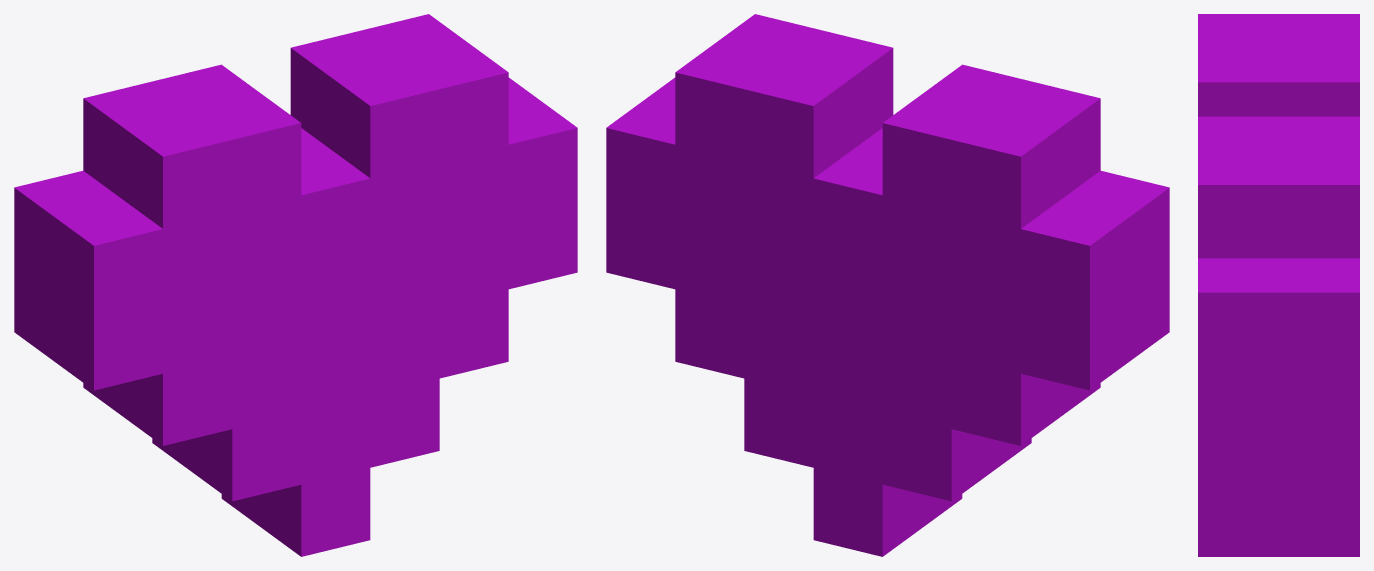
Rendered from Heart.vox-3.obj.
The picture shows the model from 3 angles, left to right: view 1: azimuth 30°, elevation 25°; view 2: azimuth 150°, elevation 25°; view 3: azimuth 270°, elevation 25°; orthographic projection.
Size of the model in its own units: 0.7 by 0.6 by 0.2.
Materials: 1 (1 with a texture image).
